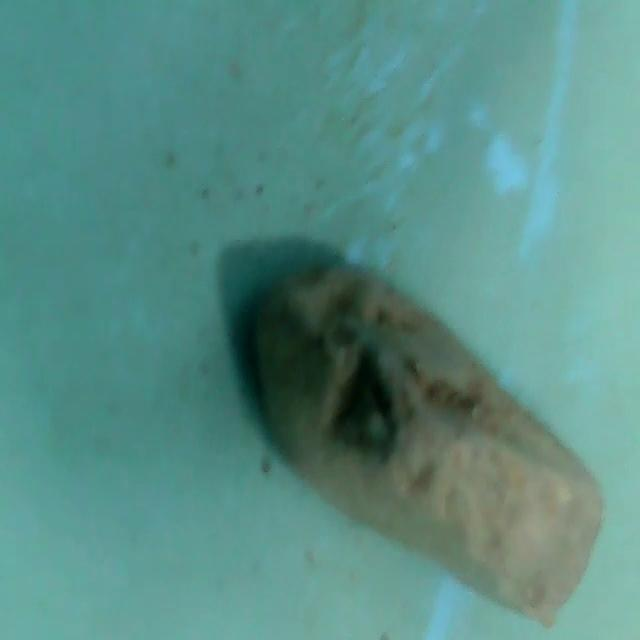rock: (243, 249, 611, 640)
